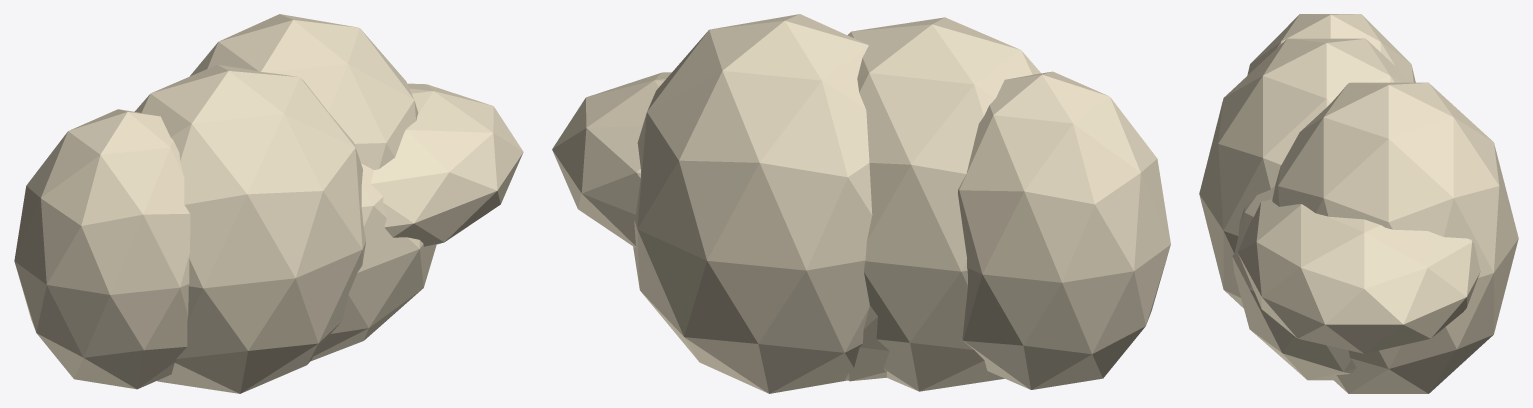
The model's file is LimestoneCluster.fbx.
The picture shows the model from 3 angles, left to right: view 1: azimuth 30°, elevation 25°; view 2: azimuth 150°, elevation 25°; view 3: azimuth 270°, elevation 25°; orthographic projection. The views are drawn at different scales.
Visible parts, largest first — view 1: Limestone_Rock, Limestone_Rock.003, Limestone_Rock.004, Limestone_Rock.001, Limestone_Rock.002; view 2: Limestone_Rock.001, Limestone_Rock.003, Limestone_Rock, Limestone_Rock.004, Limestone_Rock.002; view 3: Limestone_Rock.001, Limestone_Rock.004, Limestone_Rock, Limestone_Rock.002, Limestone_Rock.003.
Part boxes in pixels (x1=…): Limestone_Rock: x1=134, y1=64, x2=366, y2=393; Limestone_Rock.003: x1=14, y1=109, x2=190, y2=389; Limestone_Rock.004: x1=371, y1=83, x2=523, y2=247; Limestone_Rock.001: x1=189, y1=14, x2=418, y2=169; Limestone_Rock.002: x1=310, y1=163, x2=436, y2=361; Limestone_Rock.001: x1=633, y1=14, x2=872, y2=393; Limestone_Rock.003: x1=958, y1=71, x2=1170, y2=389; Limestone_Rock: x1=847, y1=17, x2=1040, y2=391; Limestone_Rock.004: x1=552, y1=72, x2=671, y2=247; Limestone_Rock.002: x1=845, y1=305, x2=889, y2=381; Limestone_Rock.001: x1=1272, y1=82, x2=1518, y2=393; Limestone_Rock.004: x1=1237, y1=199, x2=1480, y2=353; Limestone_Rock: x1=1199, y1=38, x2=1412, y2=308; Limestone_Rock.002: x1=1232, y1=186, x2=1356, y2=380; Limestone_Rock.003: x1=1247, y1=14, x2=1415, y2=82.
Size of the model in its own units: 381 by 239 by 226.
